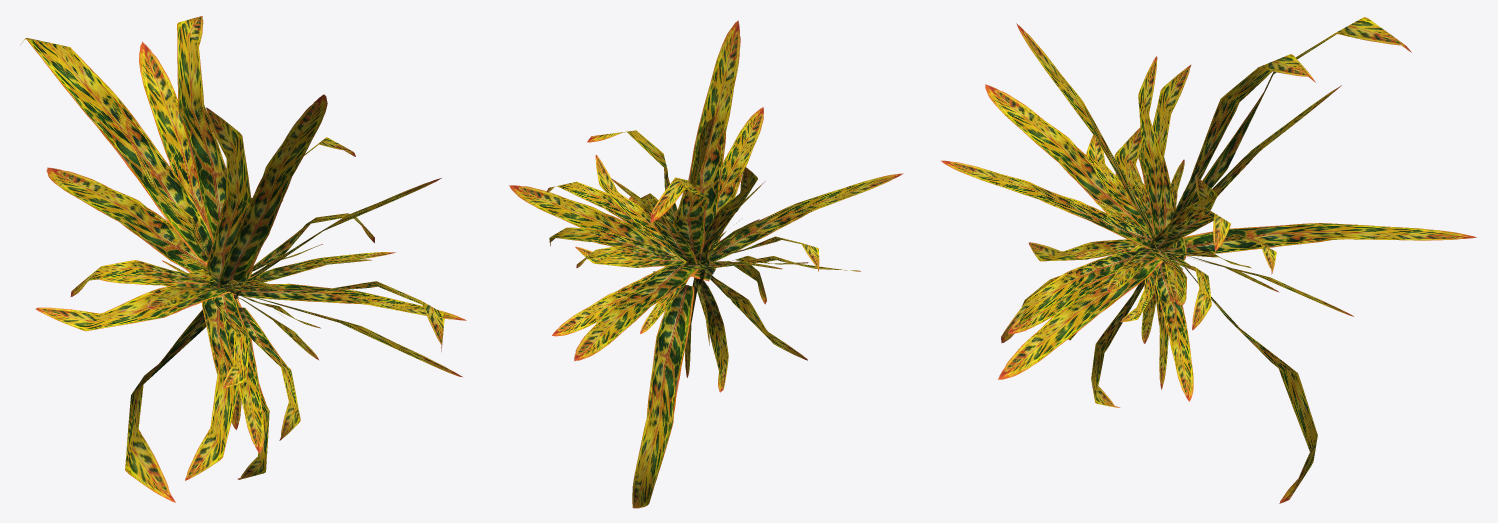
The model's file is AirSnake3.fbx.
3 views of the same model, side by side, from view 1: azimuth 30°, elevation 25°; view 2: azimuth 150°, elevation 25°; view 3: azimuth 270°, elevation 25° (orthographic). The views are drawn at different scales.
Visible parts, largest first — view 1: Snakeleaf2.002; view 2: Snakeleaf2.002; view 3: Snakeleaf2.002.
Part boxes in pixels (box(x1,y1,x2,y2)): Snakeleaf2.002: box(20, 16, 466, 502); Snakeleaf2.002: box(509, 20, 903, 508); Snakeleaf2.002: box(940, 17, 1476, 503).
Size of the model in its own units: 1119 by 1261 by 1273.
